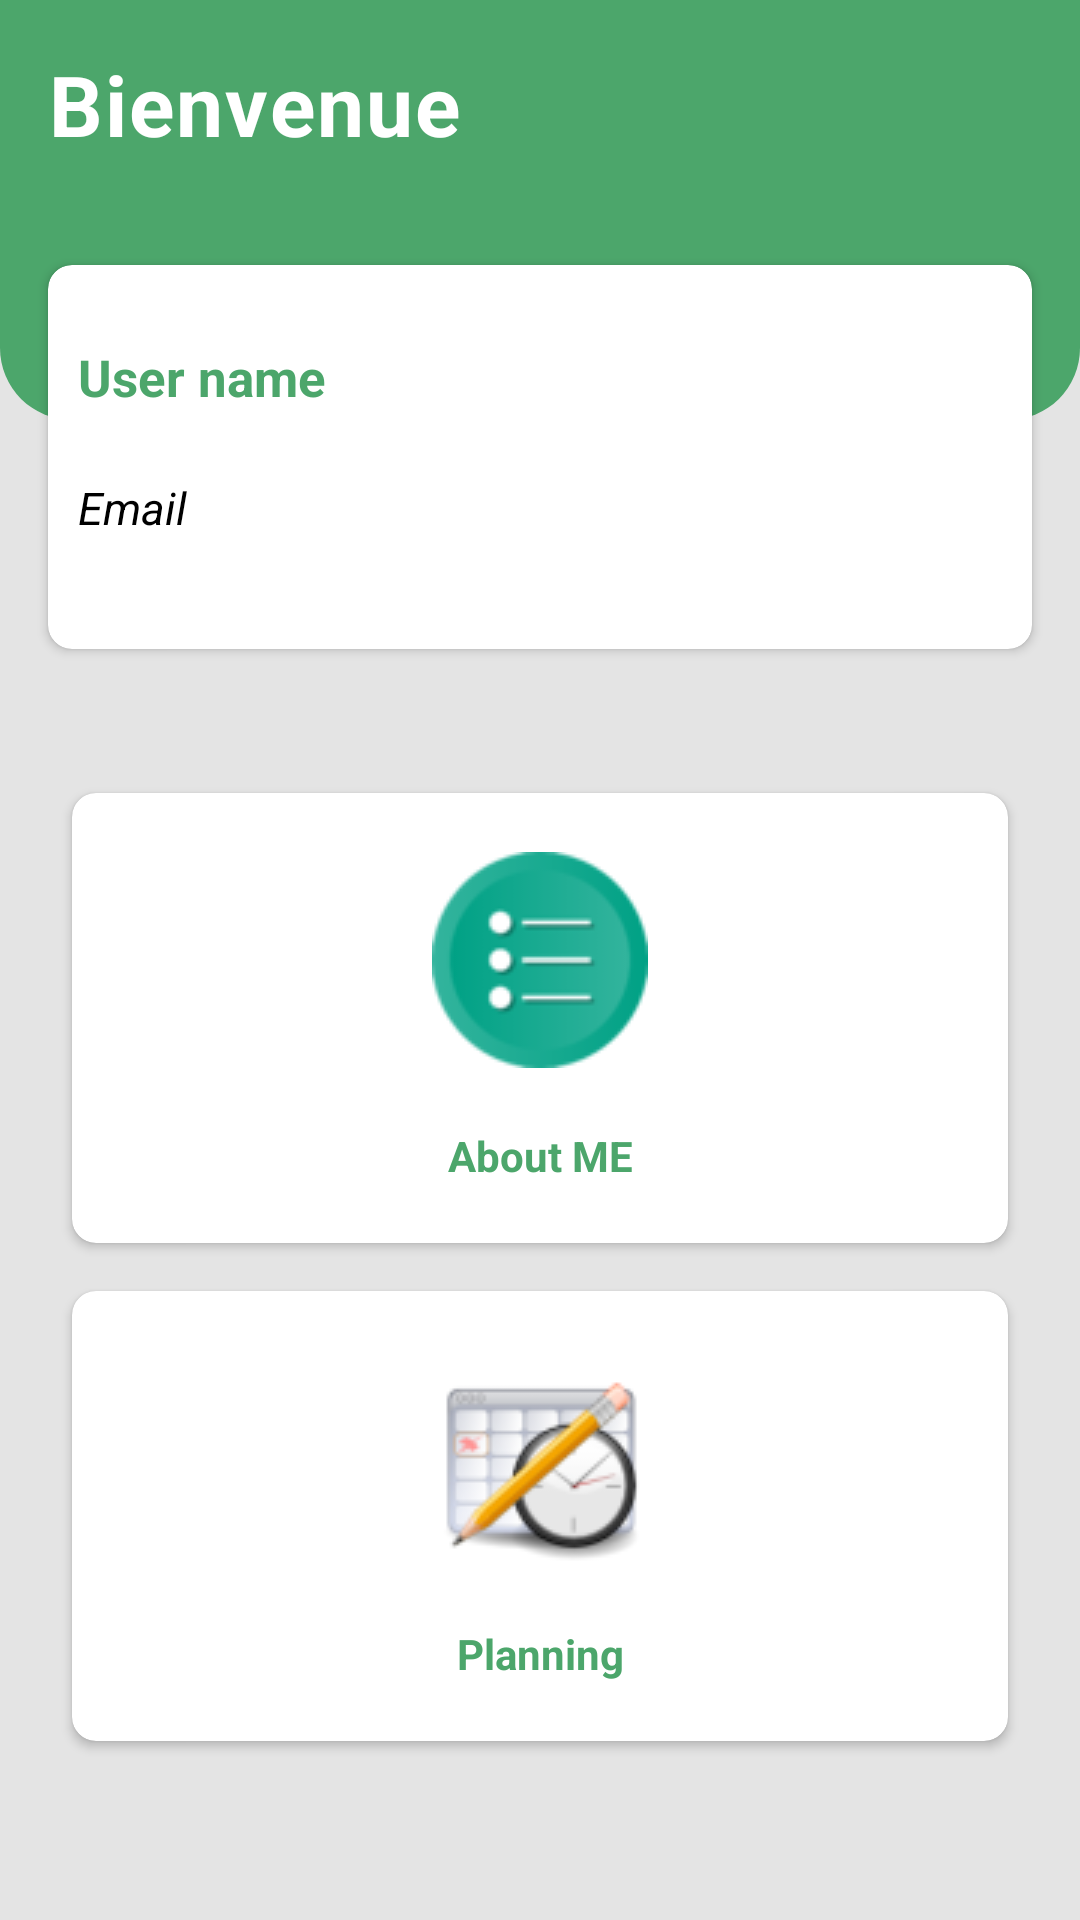

Screen size 1080x1920. Icon name, then its box in pixels as detection(x1, y1, x2, y2):
calendar: detection(446, 1382, 637, 1557)
listseance: detection(432, 852, 648, 1068)
